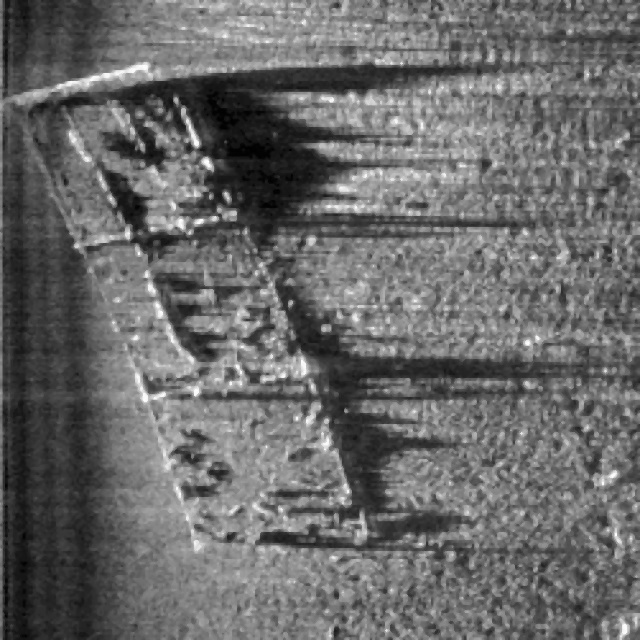Ship: (9, 41, 391, 572)
